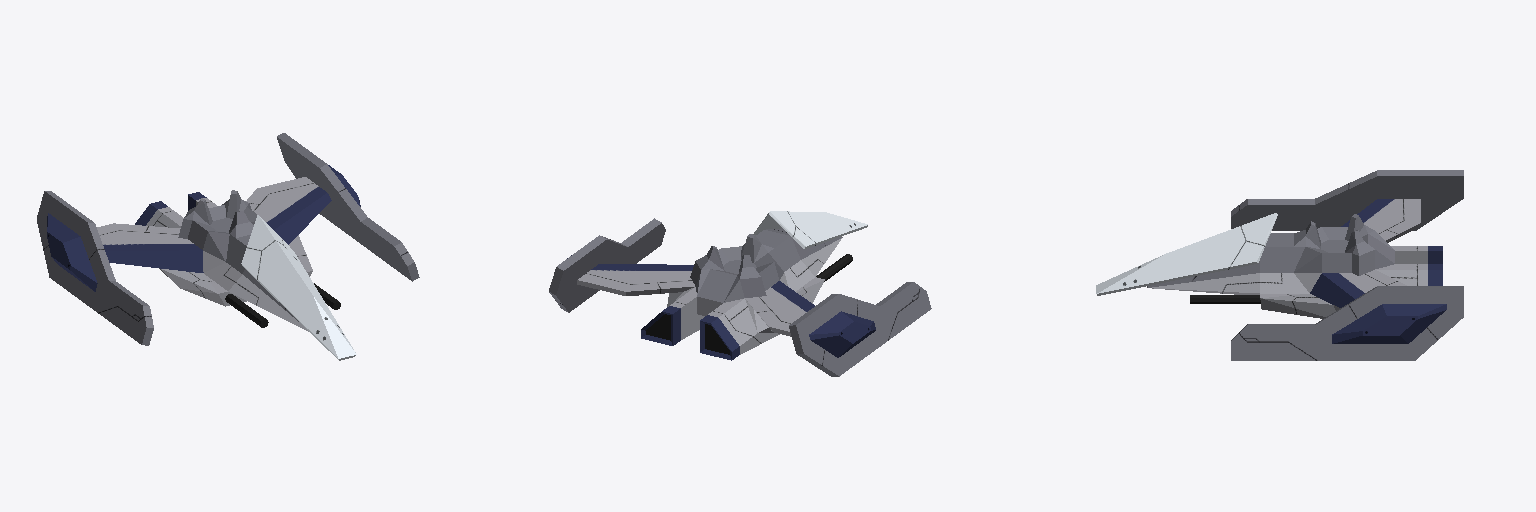
3 renders of one model, left to right at view 1: azimuth 30°, elevation 25°; view 2: azimuth 150°, elevation 25°; view 3: azimuth 270°, elevation 25°, orthographic.
Parts seen in each view (by area): view 1: Cube; view 2: Cube; view 3: Cube.
Part boxes in pixels (left/top/right/bottom): Cube: left=37, top=133, right=419, bottom=360; Cube: left=549, top=211, right=931, bottom=376; Cube: left=1096, top=170, right=1463, bottom=360.
Bounding box in the file's own units: 5.34 × 1.53 × 5.86.
1 materials, 1 textured.